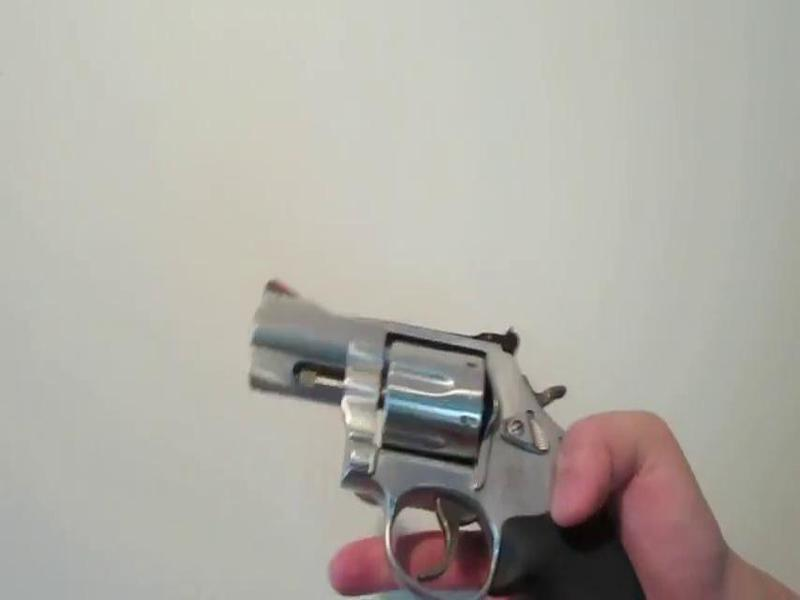Revolver: (237, 268, 680, 600)
